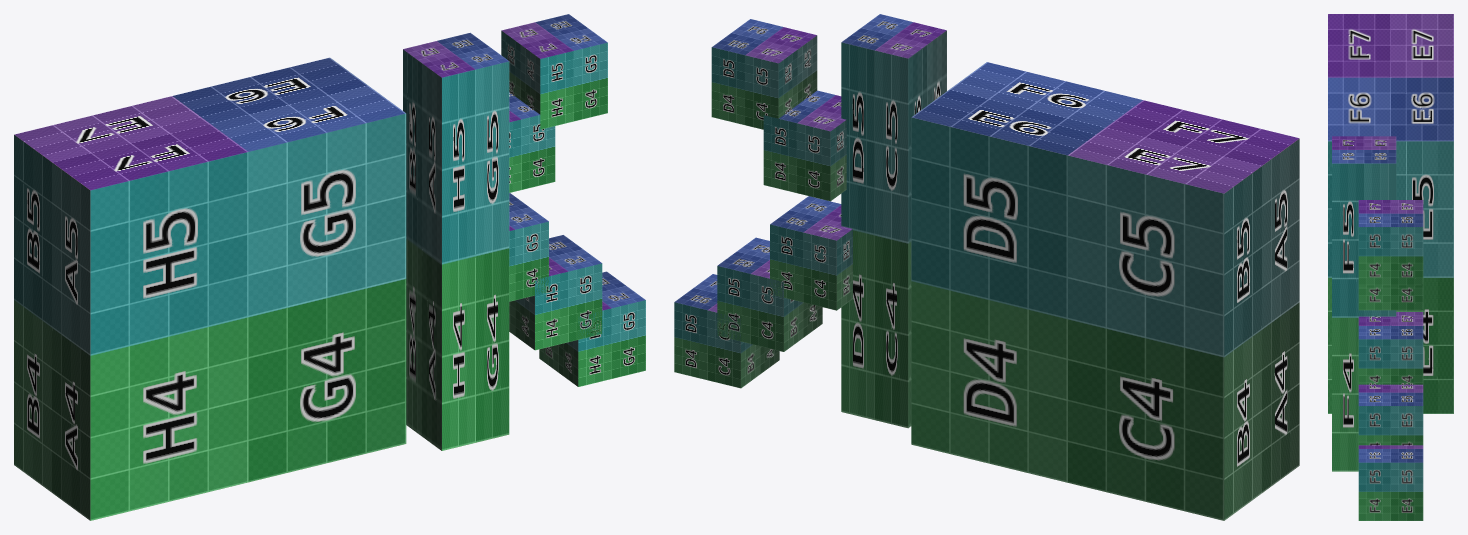
3 renders of one model, left to right at view 1: azimuth 30°, elevation 25°; view 2: azimuth 150°, elevation 25°; view 3: azimuth 270°, elevation 25°, orthographic. The views are drawn at different scales.
Visible parts, largest first — view 1: OkMesh; view 2: OkMesh; view 3: OkMesh.
Boxes of the visible parts, x1,y1,x2,y2 form: OkMesh: [14, 14, 645, 520]; OkMesh: [674, 14, 1299, 520]; OkMesh: [1328, 14, 1453, 520].
Bounding box in the file's own units: 9.88 × 6.14 × 2.28.
1 material, 1 textured.
